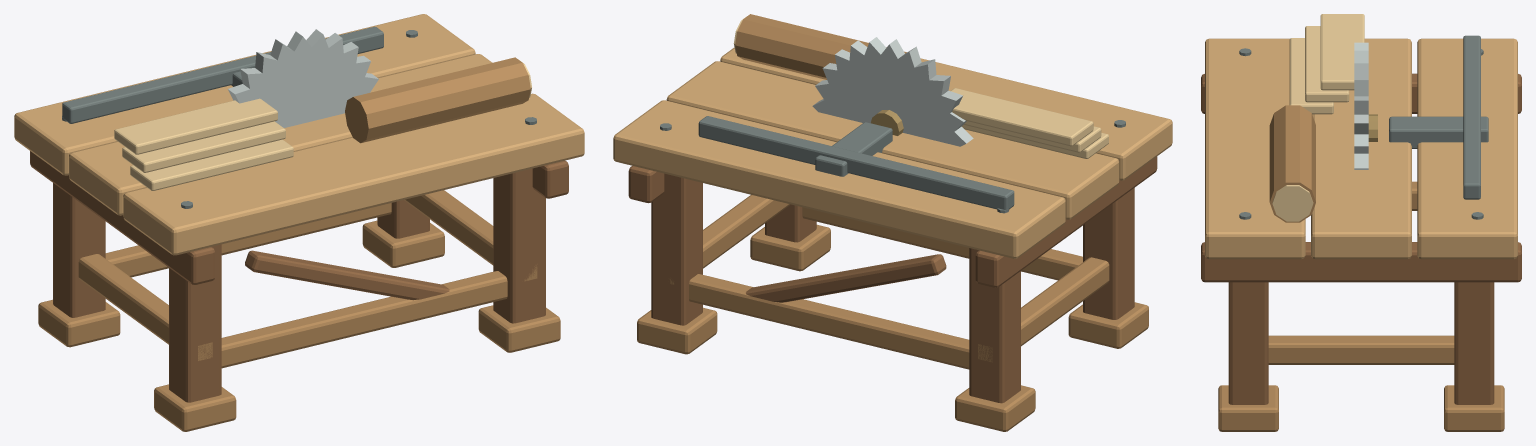
Rendered from Sawmill.glb.
3 renders of one model, left to right at view 1: azimuth 30°, elevation 25°; view 2: azimuth 150°, elevation 25°; view 3: azimuth 270°, elevation 25°, orthographic. The views are drawn at different scales.
Parts seen in each view (by area): view 1: Sawmill_OakLight, Sawmill_Oak, Sawmill_OakDark, Sawmill_EndGrain, Sawmill_BladeSteel, Sawmill_Iron; view 2: Sawmill_OakLight, Sawmill_Oak, Sawmill_OakDark, Sawmill_BladeSteel, Sawmill_Iron, Sawmill_EndGrain; view 3: Sawmill_OakLight, Sawmill_OakDark, Sawmill_Oak, Sawmill_EndGrain, Sawmill_Iron, Sawmill_BladeSteel.
Part boxes in pixels (box(x1,y1,x2,y2)): Sawmill_OakLight: box(14, 14, 584, 255); Sawmill_Oak: box(38, 57, 560, 431); Sawmill_OakDark: box(30, 151, 568, 402); Sawmill_EndGrain: box(114, 59, 531, 190); Sawmill_BladeSteel: box(228, 29, 378, 127); Sawmill_Iron: box(62, 26, 536, 208); Sawmill_OakLight: box(613, 47, 1172, 258); Sawmill_Oak: box(637, 14, 1148, 431); Sawmill_OakDark: box(628, 156, 1157, 403); Sawmill_BladeSteel: box(812, 37, 973, 146); Sawmill_Iron: box(660, 116, 1125, 213); Sawmill_EndGrain: box(733, 17, 1108, 158); Sawmill_OakLight: box(1205, 38, 1517, 259); Sawmill_OakDark: box(1201, 73, 1521, 404); Sawmill_Oak: box(1218, 105, 1504, 431); Sawmill_EndGrain: box(1272, 14, 1364, 221); Sawmill_Iron: box(1239, 35, 1488, 219); Sawmill_BladeSteel: box(1354, 42, 1368, 169).
Size of the model in its own units: 1.18 by 0.8176 by 0.812.
